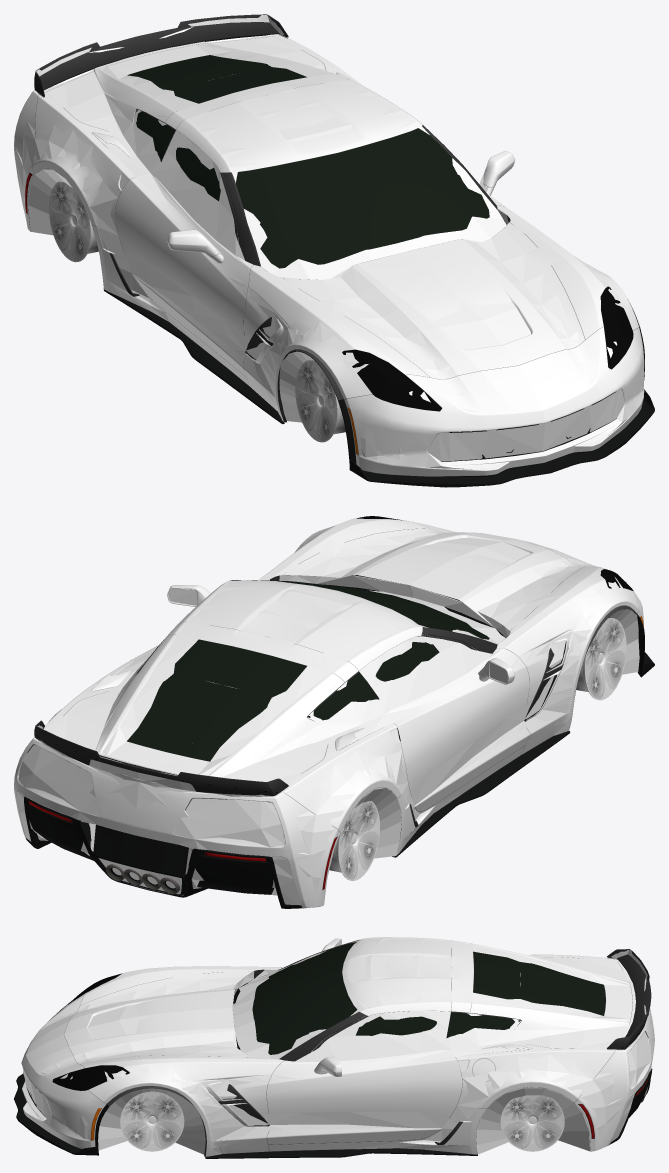
The model's file is CorvetteC7.fbx.
The picture shows the model from 3 angles, top to bottom: view 1: azimuth 30°, elevation 25°; view 2: azimuth 150°, elevation 25°; view 3: azimuth 270°, elevation 25°; orthographic projection. The views are drawn at different scales.
Parts seen in each view (by area): view 1: BodyH, Shadowcaster, Glass, DiskCap (×2); view 2: BodyH, Shadowcaster, Glass, DiskCap (×2); view 3: BodyH, Shadowcaster, Glass, DiskCap (×2).
Part boxes in pixels (x1=…): BodyH: x1=14, y1=14, x2=654, y2=487; Shadowcaster: x1=15, y1=15, x2=644, y2=474; Glass: x1=127, y1=55, x2=489, y2=268; DiskCap (×2): x1=49, y1=182, x2=339, y2=440; BodyH: x1=14, y1=516, x2=654, y2=908; Shadowcaster: x1=17, y1=519, x2=639, y2=905; Glass: x1=127, y1=580, x2=489, y2=761; DiskCap (×2): x1=336, y1=619, x2=625, y2=879; BodyH: x1=14, y1=937, x2=654, y2=1158; Shadowcaster: x1=22, y1=937, x2=652, y2=1155; Glass: x1=252, y1=942, x2=605, y2=1054; DiskCap (×2): x1=121, y1=1092, x2=563, y2=1150.
Bounding box in the file's own units: 2.19 × 1.09 × 4.55.
